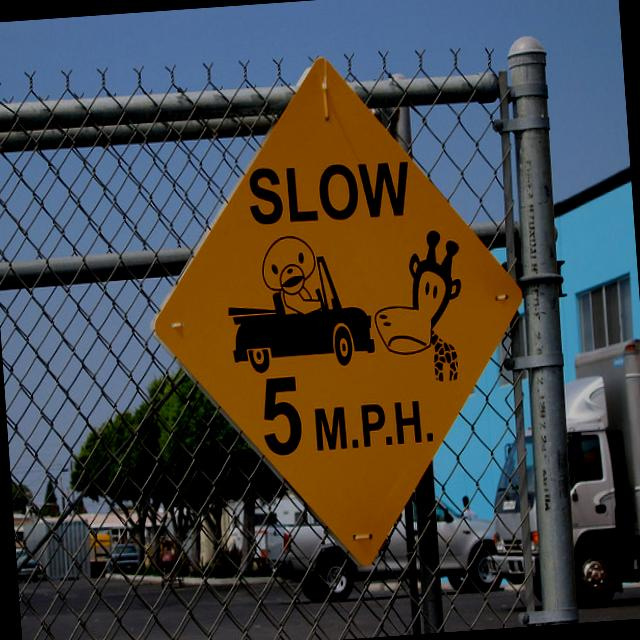Vehicle: (477, 336, 640, 613), (260, 494, 500, 609), (258, 505, 412, 606), (110, 542, 140, 576), (15, 546, 38, 582), (178, 556, 190, 576)
